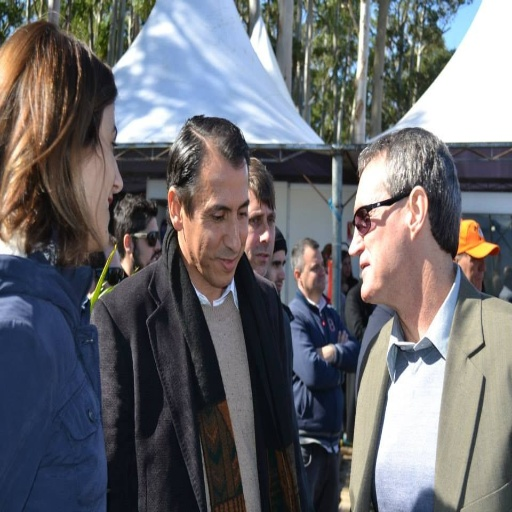hand: (315, 347, 334, 364), (336, 328, 349, 344)
